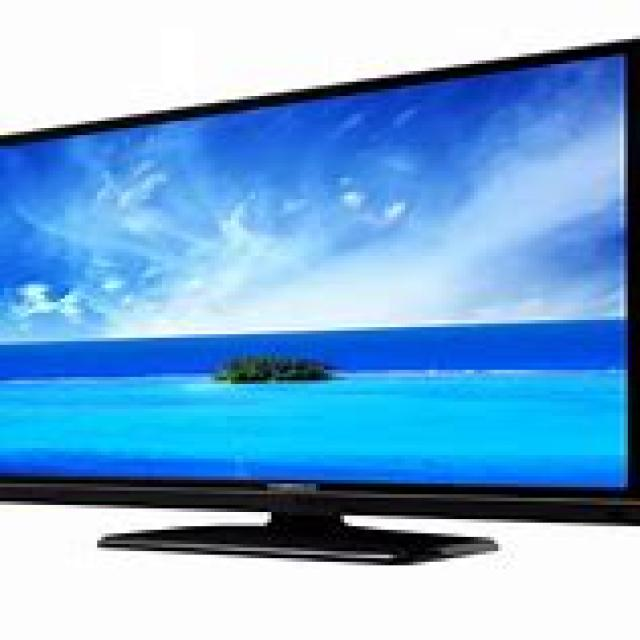tv: (0, 28, 636, 566)
